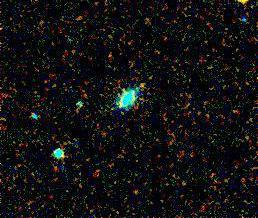star: (127, 70, 157, 100)
